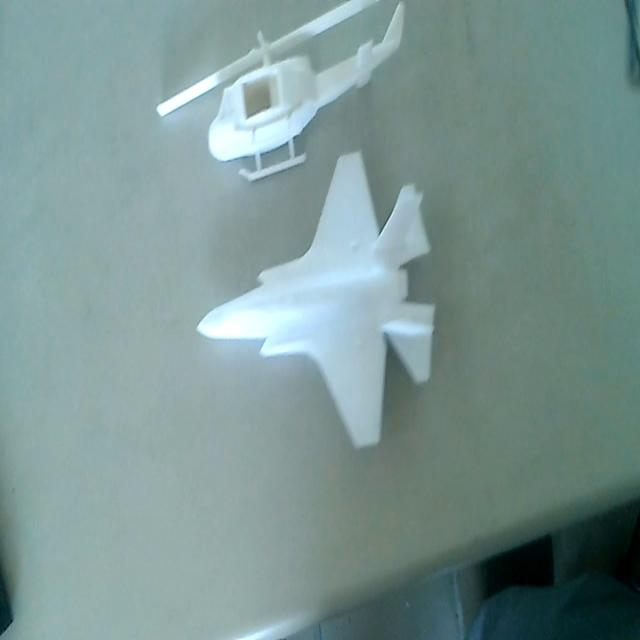Helicopter: (156, 0, 408, 180)
Jet: (198, 149, 441, 464)
